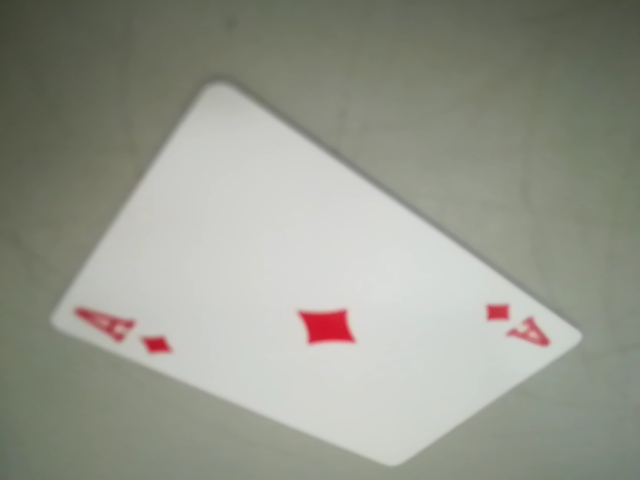fk a: (60, 301, 185, 360), (479, 291, 562, 356)
